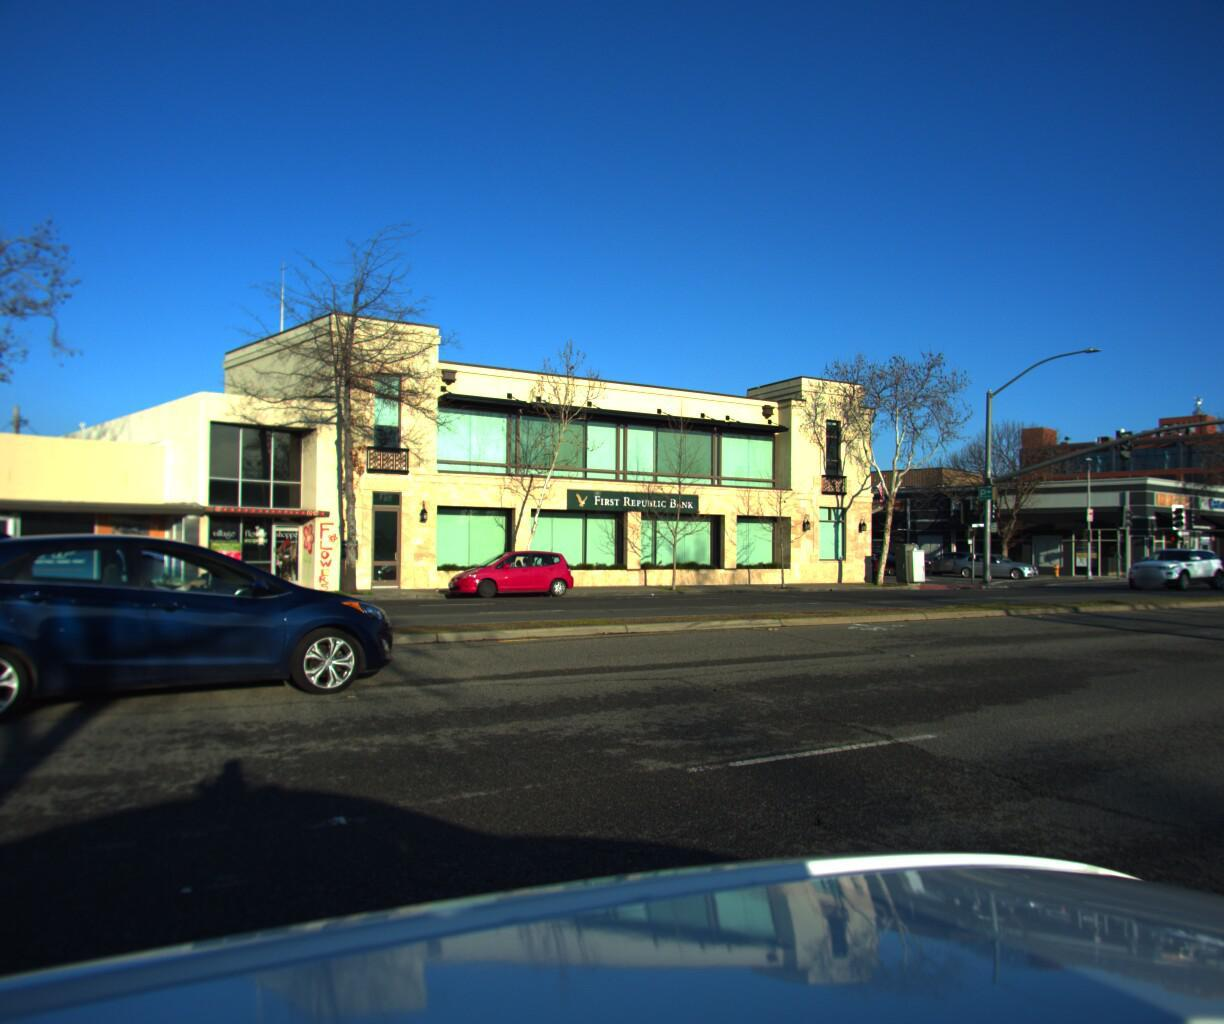car: (0, 495, 413, 740), (434, 543, 582, 601), (1113, 537, 1224, 585), (943, 545, 1038, 575), (0, 521, 19, 663), (834, 544, 918, 571), (908, 544, 987, 571)
